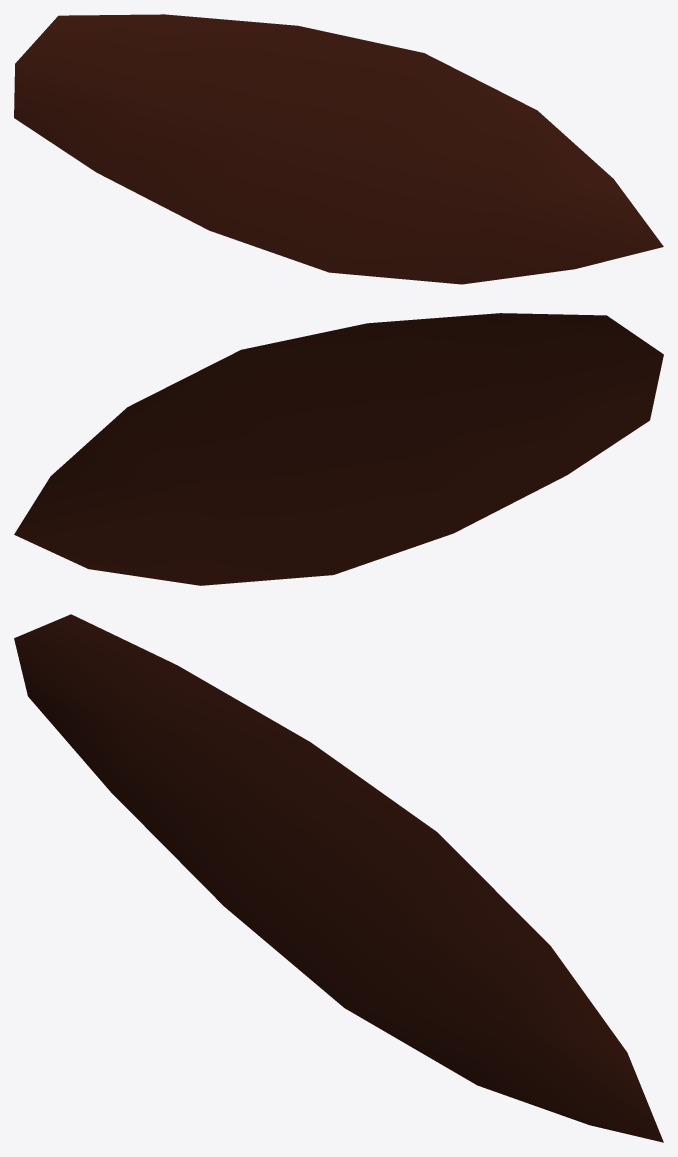
The model's file is hen_feather_flight_tertiary_030.obj.
3 renders of one model, top to bottom at view 1: azimuth 30°, elevation 25°; view 2: azimuth 150°, elevation 25°; view 3: azimuth 330°, elevation 25°, orthographic.
Visible parts, largest first — view 1: feather_flight_tertiary_030; view 2: feather_flight_tertiary_030; view 3: feather_flight_tertiary_030.
Boxes of the visible parts, x1,y1,x2,y2 form: feather_flight_tertiary_030: (14, 14, 663, 284); feather_flight_tertiary_030: (14, 313, 663, 585); feather_flight_tertiary_030: (14, 614, 663, 1142).
Bounding box in the file's own units: 0.0275 × 0.0154 × 0.000812.
